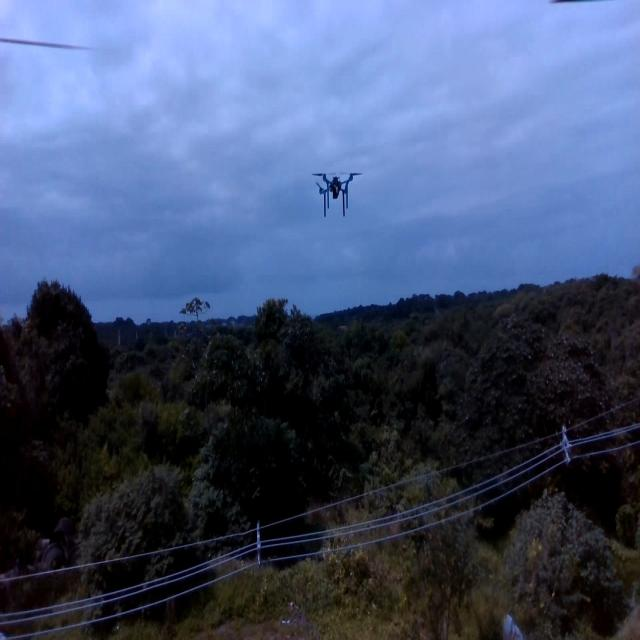-uav-: (306, 158, 366, 224)
